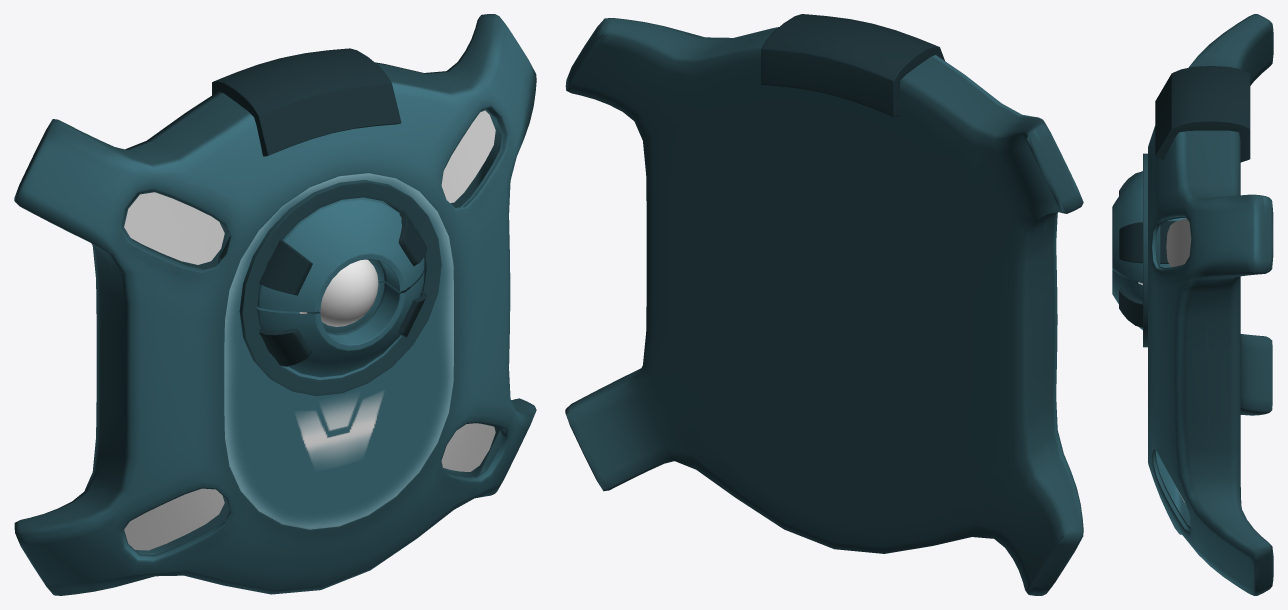
File: proyector.fbx
3 views of the same model, side by side, from view 1: azimuth 30°, elevation 25°; view 2: azimuth 150°, elevation 25°; view 3: azimuth 270°, elevation 25° (orthographic). The views are drawn at different scales.
Visible parts, largest first — view 1: Cylinder.017, Cylinder.021; view 2: Cylinder.017; view 3: Cylinder.017, Cylinder.021.
Part boxes in pixels (x1,y1,x2,y2): Cylinder.017: [14, 14, 536, 595]; Cylinder.021: [124, 110, 495, 550]; Cylinder.017: [565, 14, 1083, 595]; Cylinder.017: [1112, 14, 1273, 595]; Cylinder.021: [1138, 219, 1191, 504].
Bounding box in the file's own units: 145 × 136 × 46.08.
